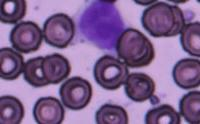L: (73, 0, 130, 50)
